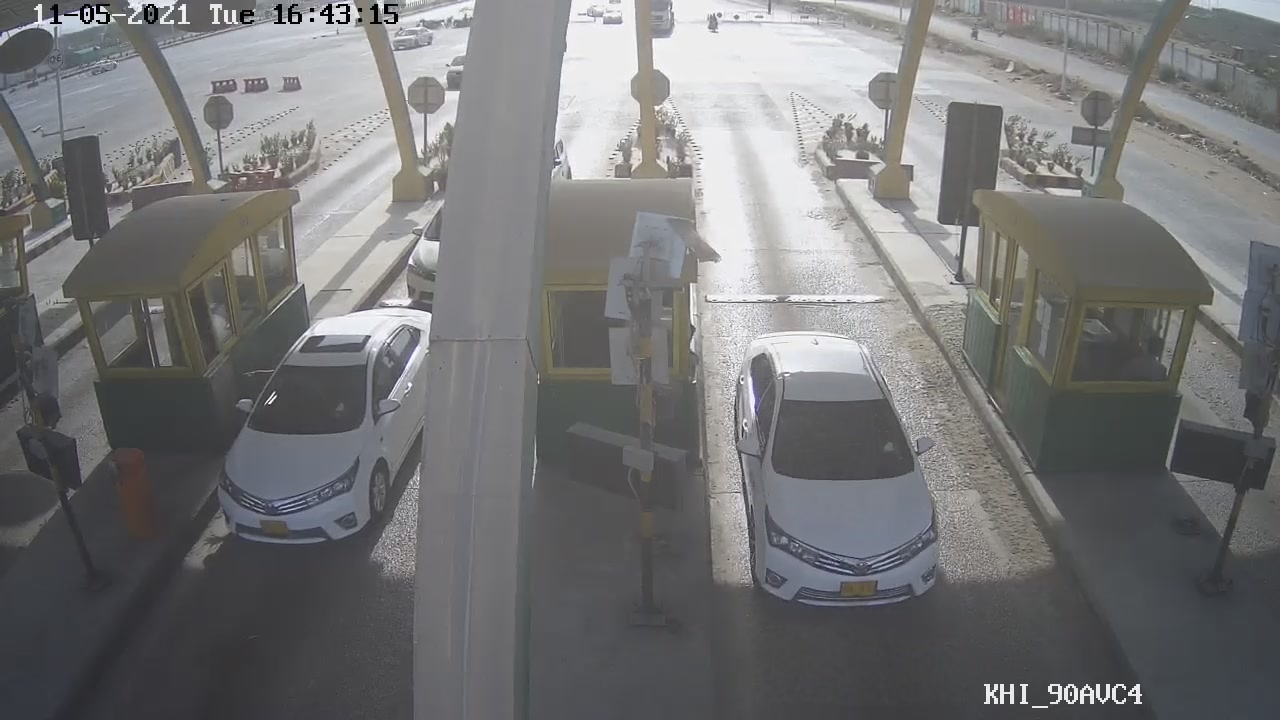F1: (725, 326, 948, 610)
